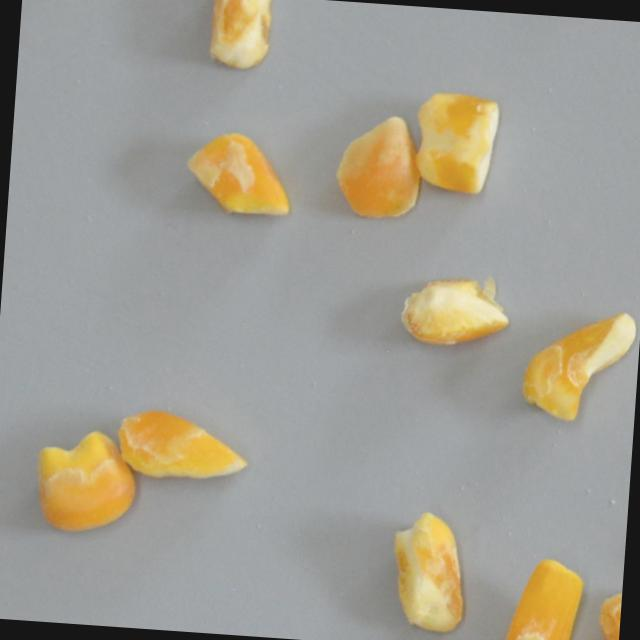dañado: (517, 300, 640, 431), (27, 422, 138, 538), (178, 123, 299, 227), (383, 504, 472, 638), (111, 403, 253, 486), (330, 107, 427, 224), (409, 82, 506, 197), (396, 266, 514, 355), (493, 550, 587, 640), (203, 0, 276, 74), (593, 581, 622, 640)
